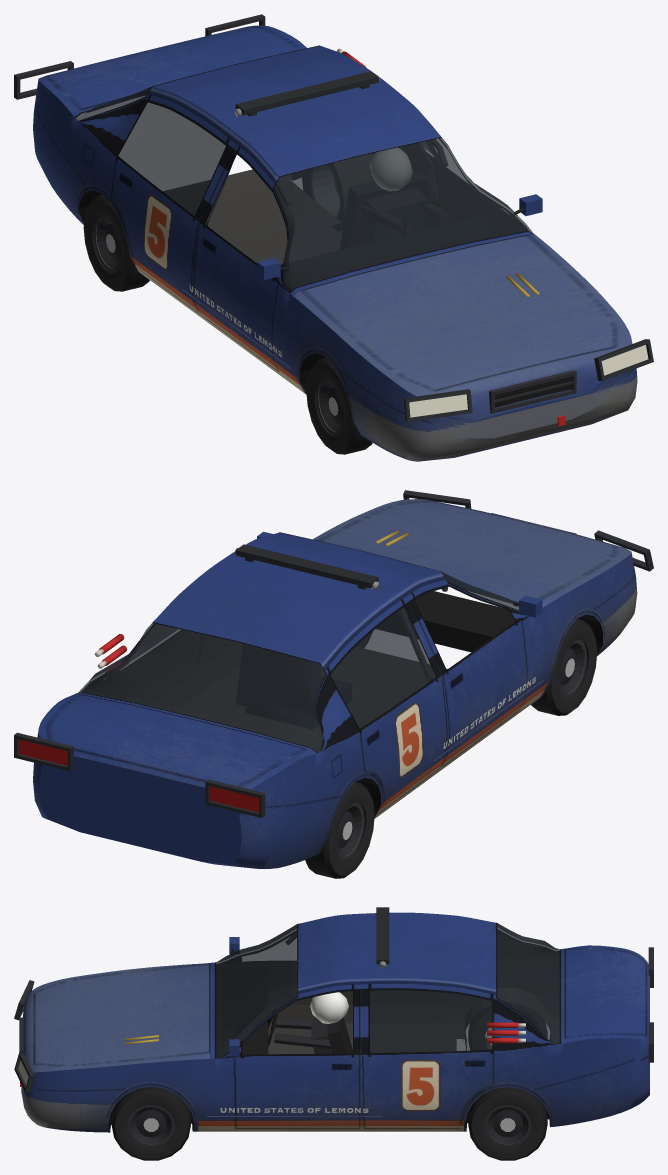
3 renders of one model, top to bottom at view 1: azimuth 30°, elevation 25°; view 2: azimuth 150°, elevation 25°; view 3: azimuth 270°, elevation 25°, orthographic. The views are drawn at different scales.
Parts seen in each view (by area): view 1: body, wheel_fr, wheel_rr, wheel_rl; view 2: body, wheel_rr, wheel_fr; view 3: body, wheel_fl, wheel_rl, wheel_rr.
Part boxes in pixels (box(x1,y1,x2,y2)): body: box(14, 14, 653, 461); wheel_fr: box(306, 357, 372, 454); wheel_rr: box(83, 194, 149, 291); wheel_rl: box(302, 163, 344, 230); body: box(14, 490, 653, 868); wheel_rr: box(305, 782, 374, 878); wheel_fr: box(531, 618, 597, 715); body: box(14, 907, 653, 1132); wheel_fl: box(111, 1086, 190, 1160); wheel_rl: box(468, 1087, 547, 1160); wheel_rr: box(468, 1002, 547, 1050).
Size of the model in its own units: 1.98 by 1.53 by 4.92.
Materials: 2 (1 with a texture image).
